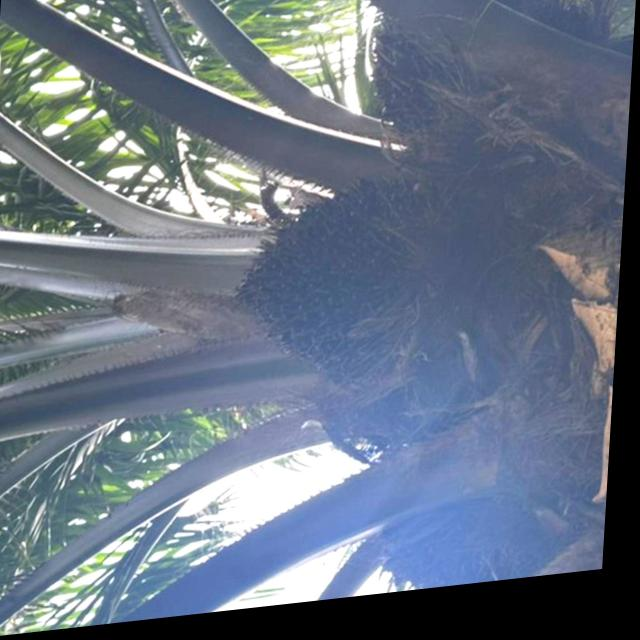unripe: (227, 173, 450, 418)
